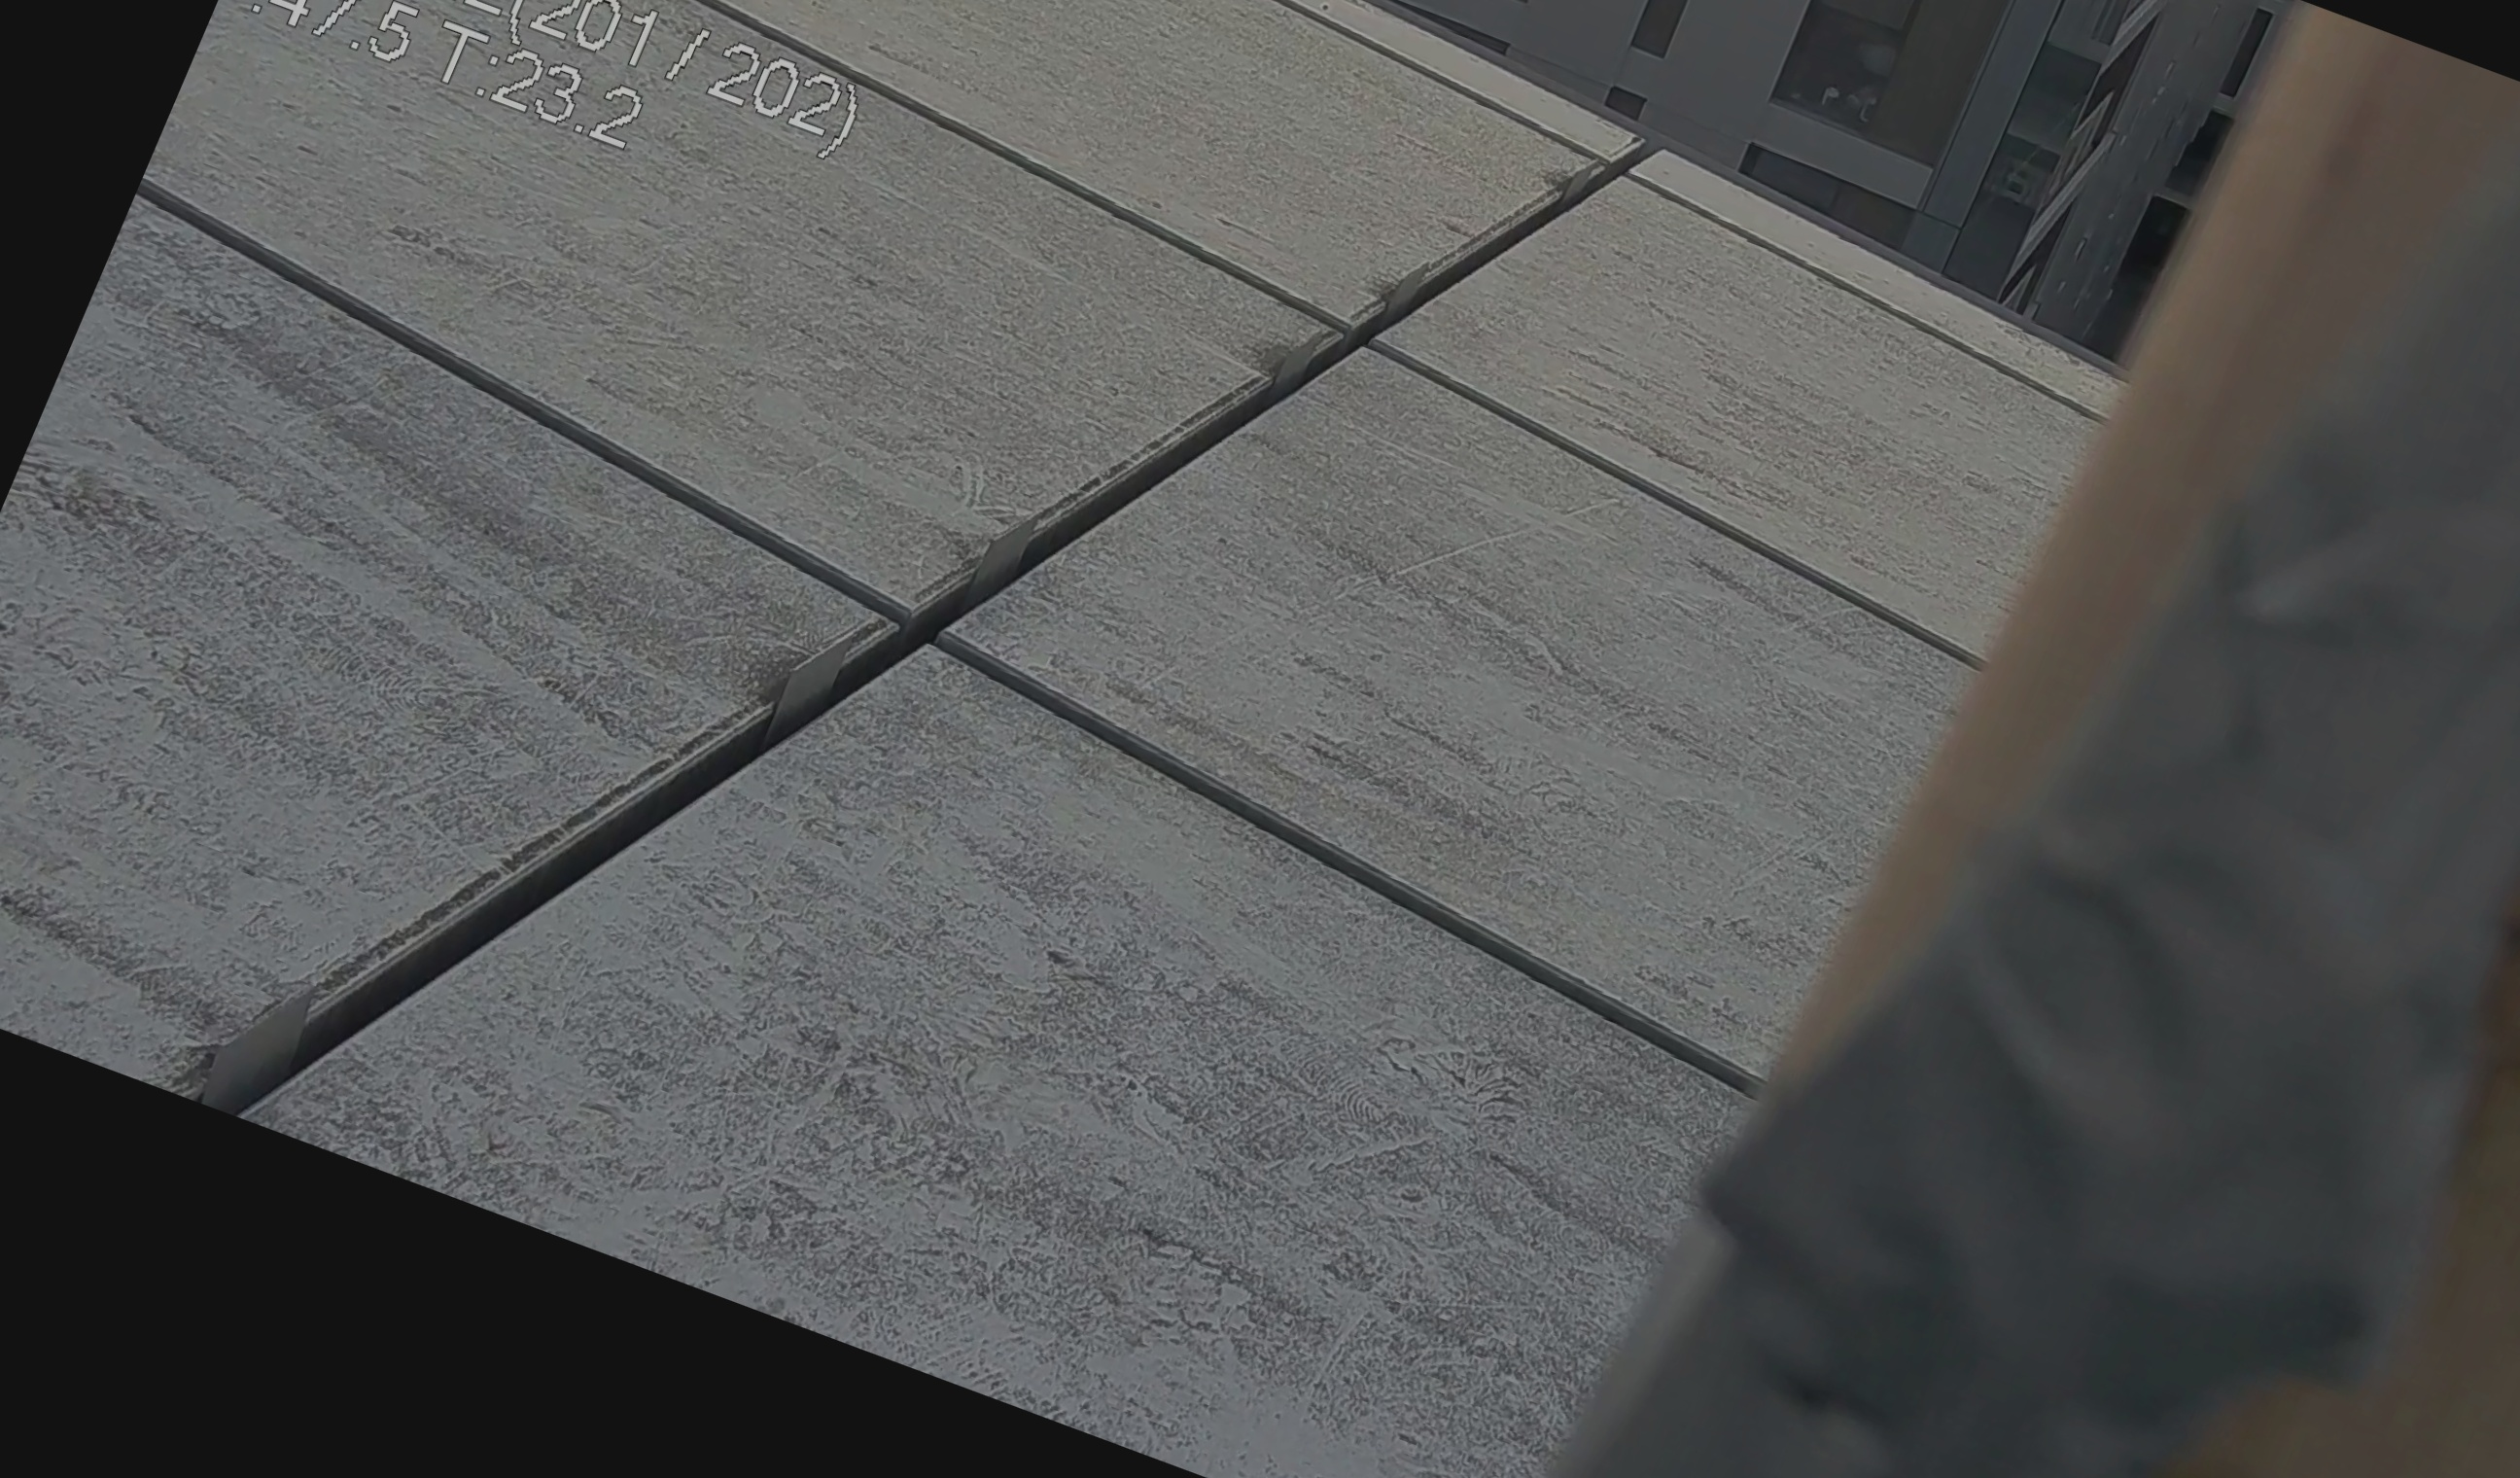Other: (1453, 0, 2520, 1478)
